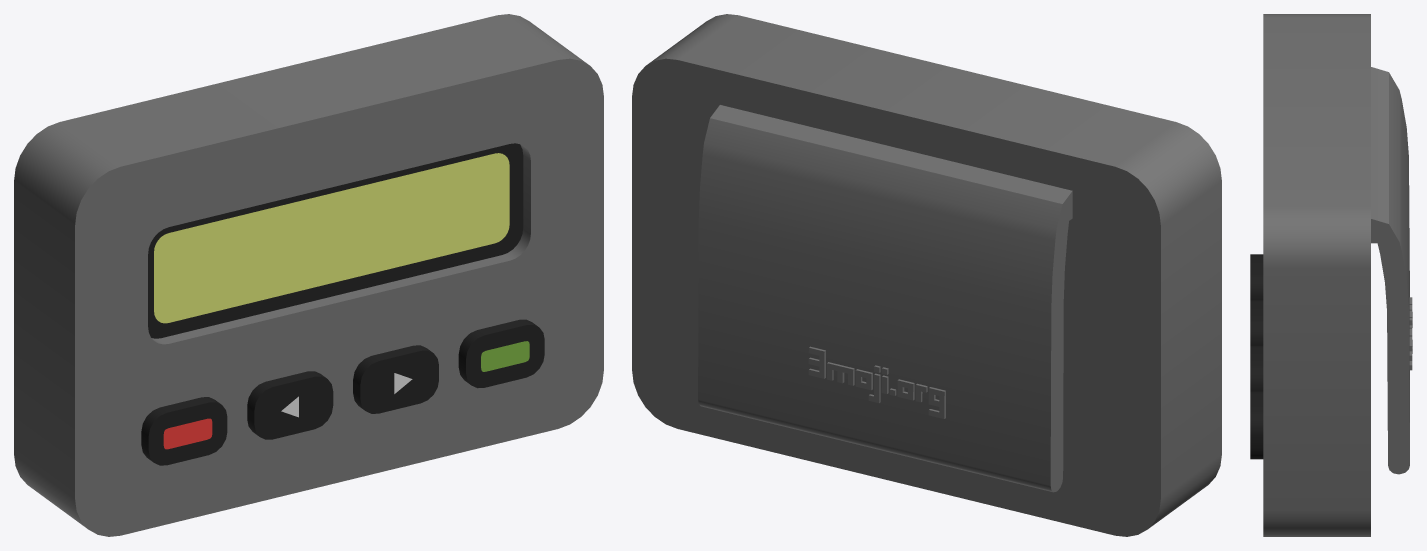
File: pager.glb
The picture shows the model from 3 angles, left to right: view 1: azimuth 30°, elevation 25°; view 2: azimuth 150°, elevation 25°; view 3: azimuth 270°, elevation 25°; orthographic projection. The views are drawn at different scales.
Visible parts, largest first — view 1: Cube.923; view 2: Cube.923; view 3: Cube.923.
Part boxes in pixels (x1,y1,x2,y2): Cube.923: [14, 14, 603, 536]; Cube.923: [632, 14, 1221, 536]; Cube.923: [1250, 14, 1412, 536].
Size of the model in its own units: 2.16 by 1.44 by 0.6492.
Materials: 1 (1 with a texture image).
